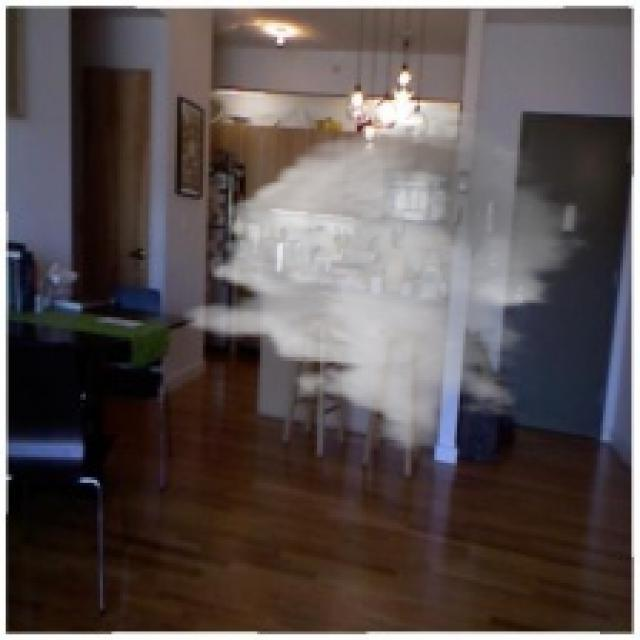Smoke: (177, 97, 594, 452)
